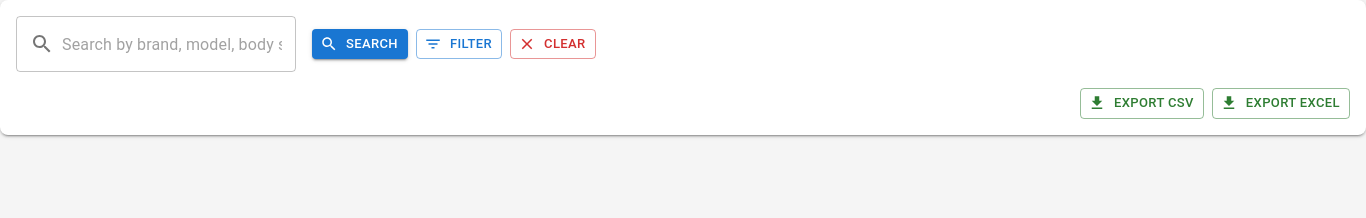
Scenario: DataGridToolbar › when user applies filters › should show filter panel when clicking filter button
This screenshot has width=1366, height=218.
Step 1. Click the button "Filter" → (459, 44), box x1=416 y1=29 x2=502 y2=59
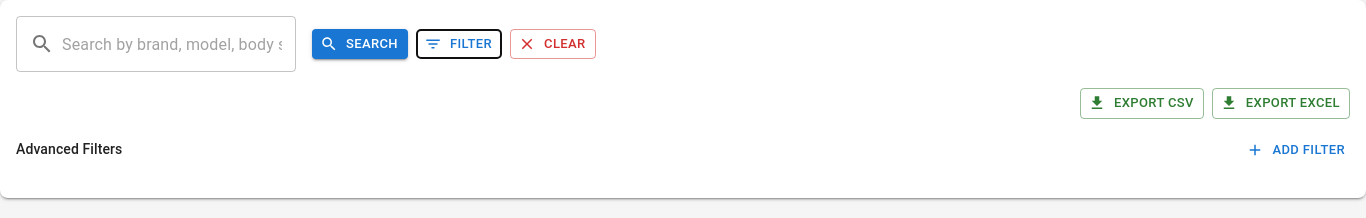
Expected: the heading "Advanced Filters" is shown, x1=16 y1=139 x2=122 y2=161
